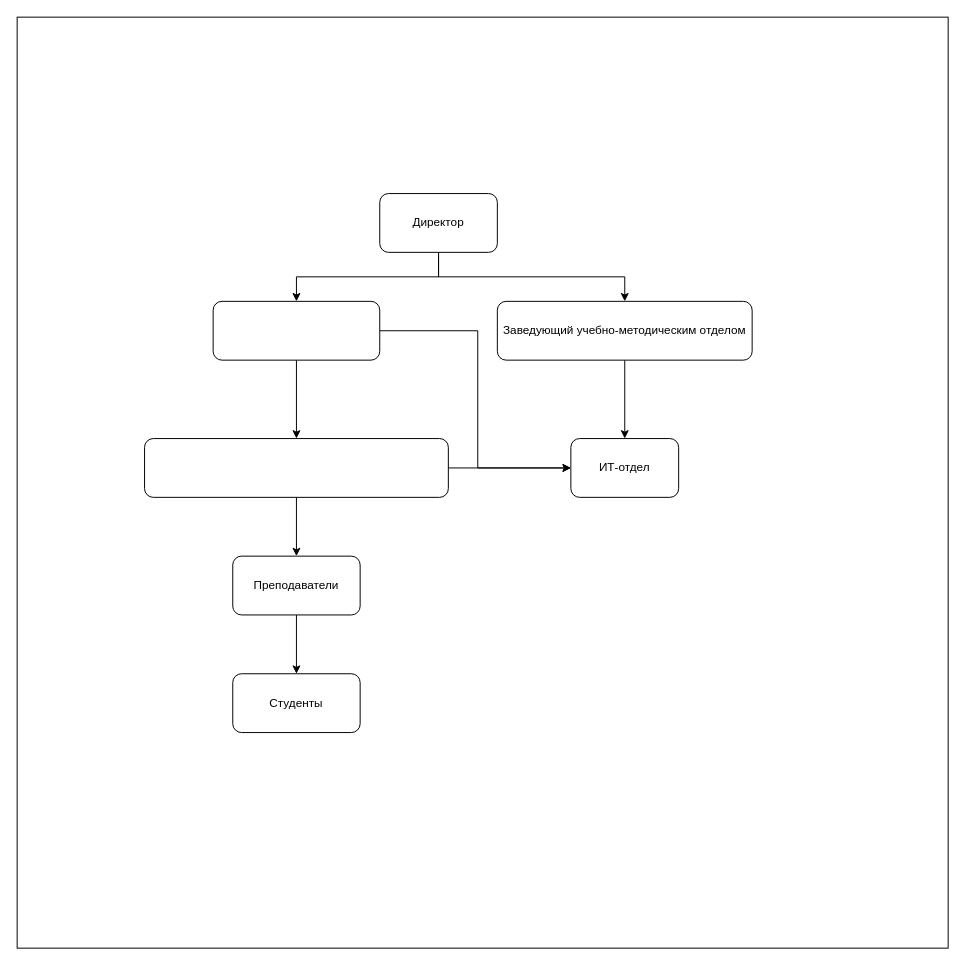
Image size: 965x965. Some labels were removed from this diagram. The shapes that lost their labels are listed below. From the top down, each one's centre as x and y in pixels, then its label:
At point 296,330: "Заместители директора".
At point 296,467: "Методисты учебно-методического отдела".
